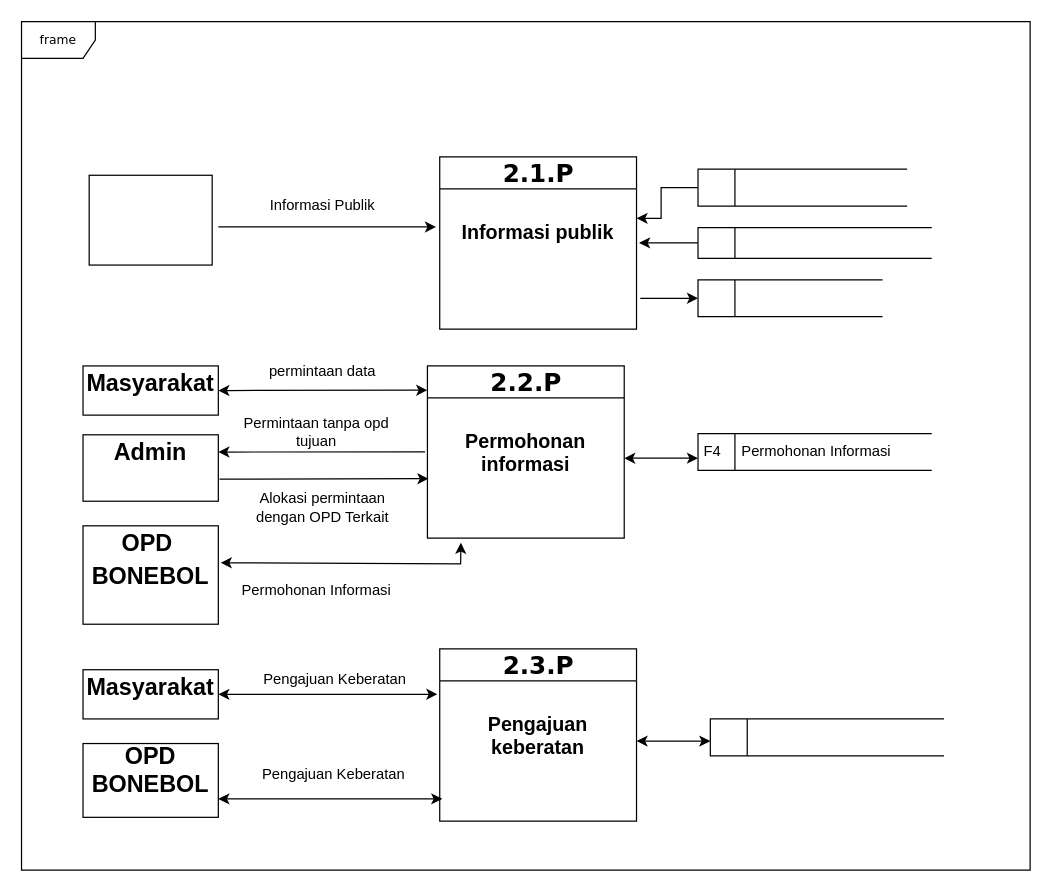
Some shapes in this 1052 by 892 pixel diagram are drawn without their labels. The shapes that lost their labels are listed below. From the top down, each one's centre as x and y in pixels, then its label:
At (x=802, y=187): "F1 Klasifikasi informasi".
At (x=150, y=219): "OPD".
At (x=814, y=242): "F2 OPD BoneBolango".
At (x=790, y=298): "F3 Informasi Publik".
At (x=826, y=737): "F5 Pengajuan Keberatan".
